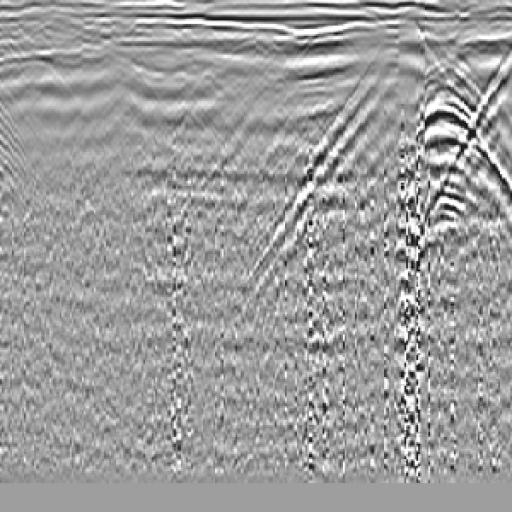metalic: (417, 35, 512, 250)
non-metallic: (254, 18, 512, 289), (369, 57, 512, 246)
